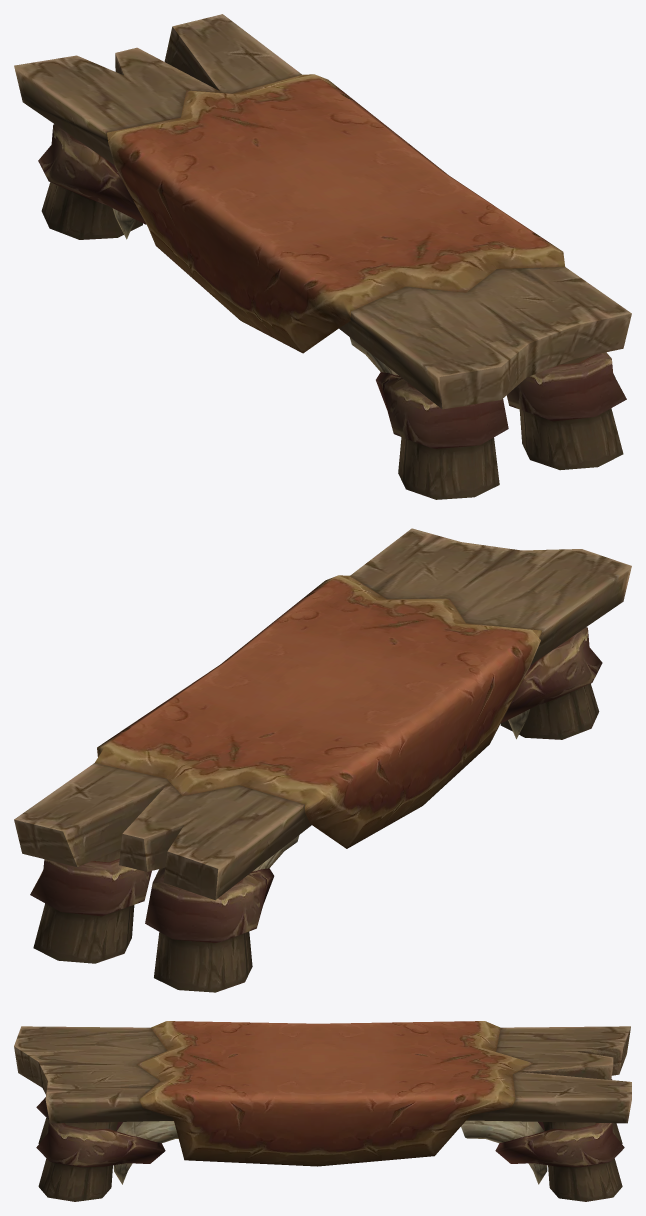
The picture shows the model from 3 angles, top to bottom: view 1: azimuth 30°, elevation 25°; view 2: azimuth 150°, elevation 25°; view 3: azimuth 270°, elevation 25°; orthographic projection. The views are drawn at different scales.
Size of the model in its own units: 0.7909 by 0.4893 by 2.54.
1 material, 1 textured.
